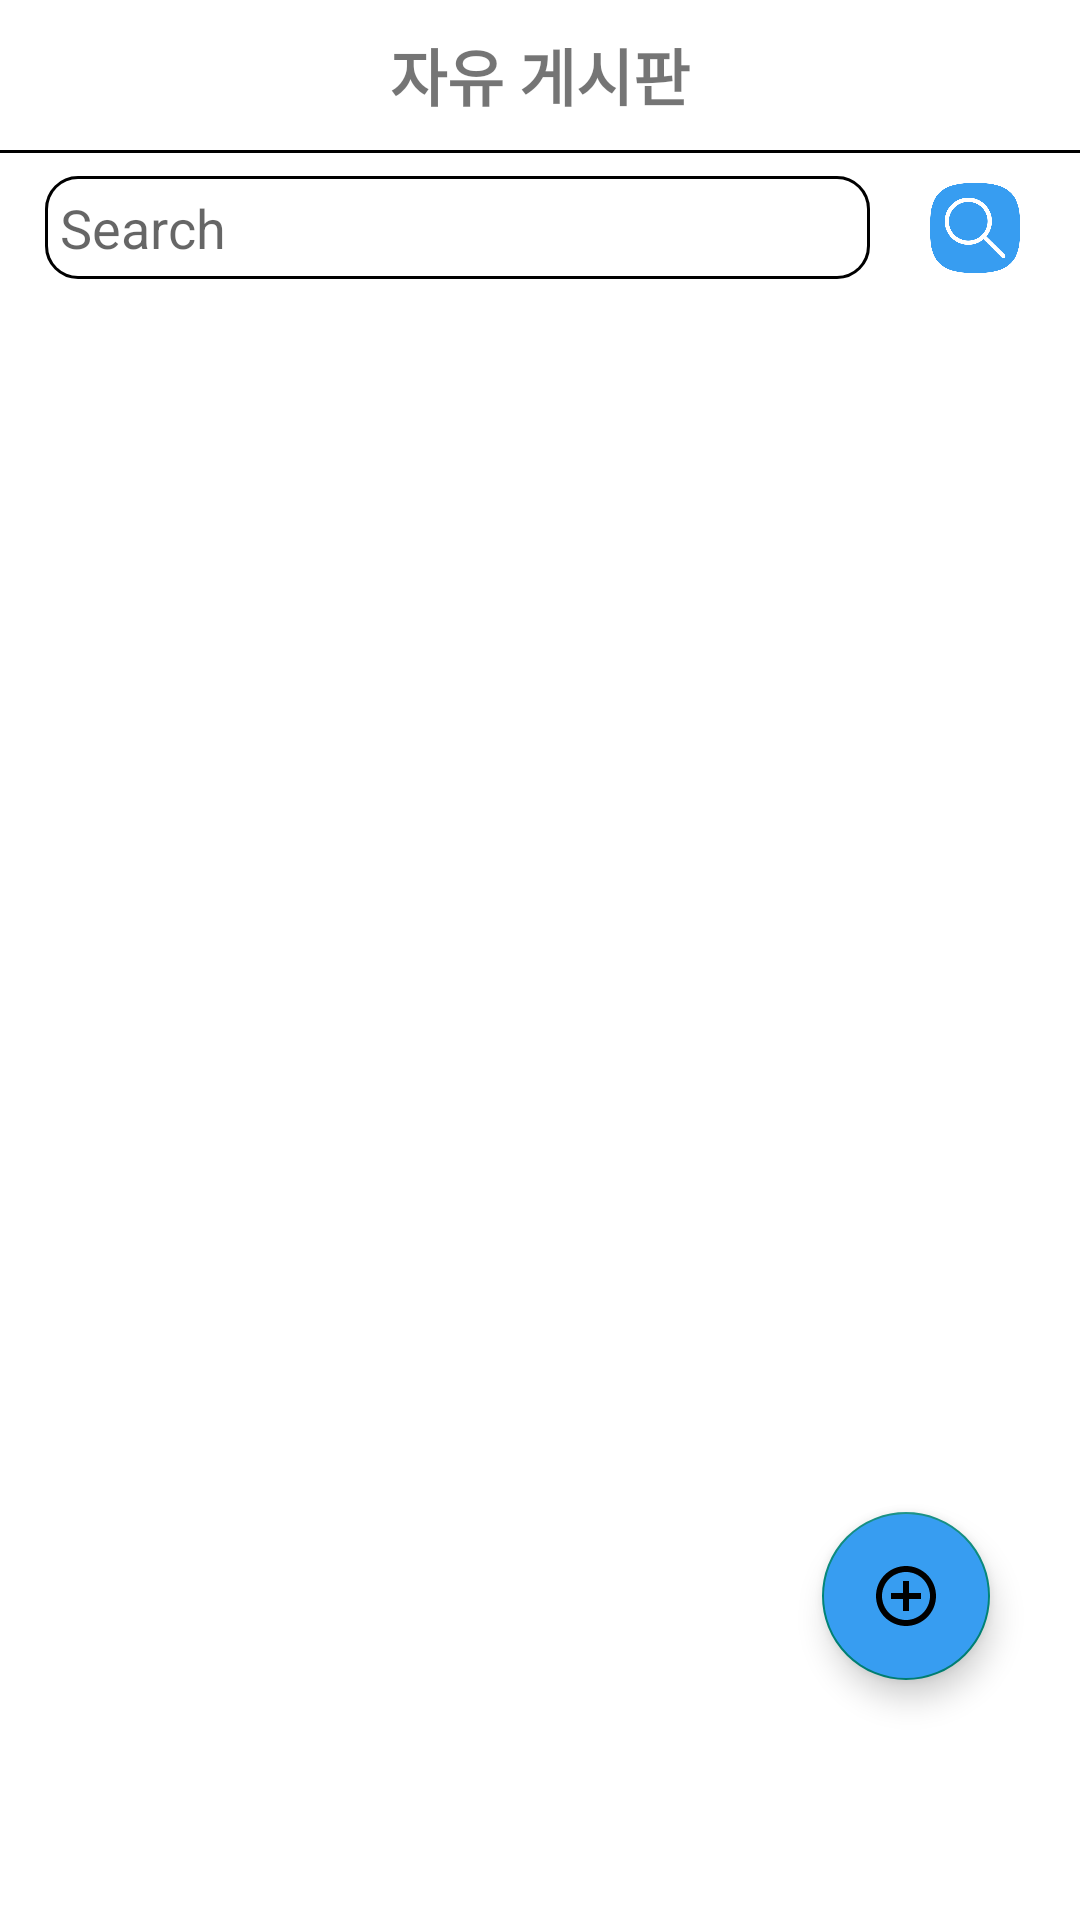

Where to tap for icons on this 1080px x 1920px app screen, as [x,y]:
add circle: [906,1596]
